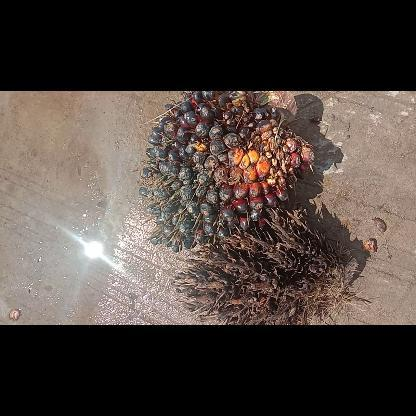Janjang kosong: (172, 208, 364, 324)
TBS mentah: (135, 90, 313, 254)
